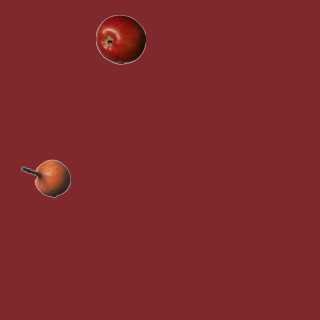Apple Braeburn: (95, 14, 145, 64)
Granadilla: (20, 153, 70, 203)
